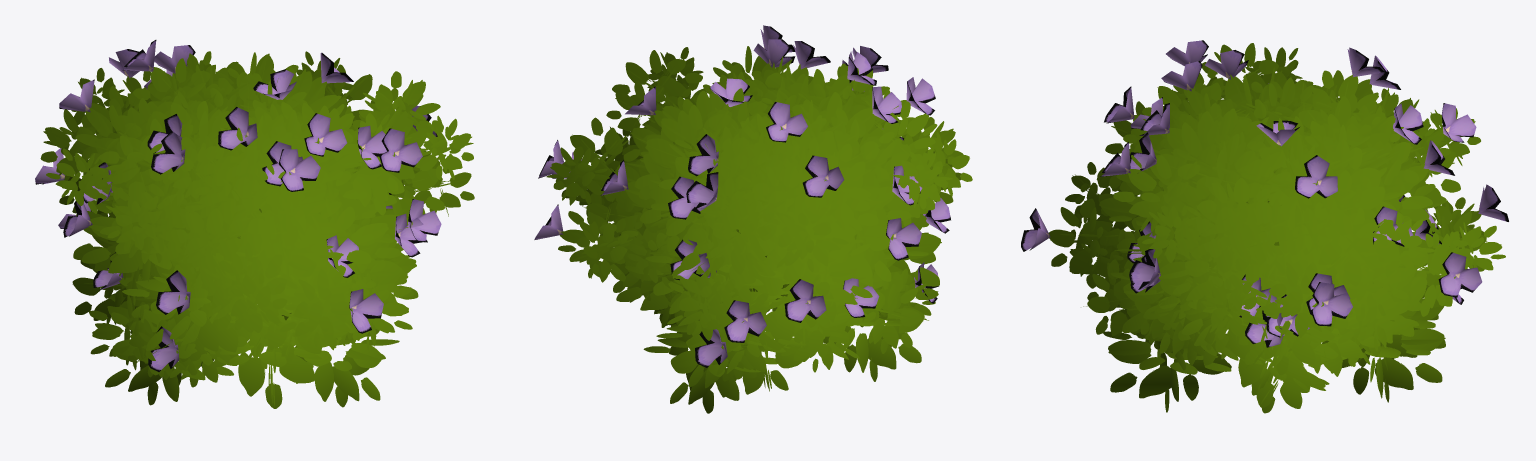
Rendered from bush_common_flowers.gltf.
3 views of the same model, side by side, from view 1: azimuth 30°, elevation 25°; view 2: azimuth 150°, elevation 25°; view 3: azimuth 270°, elevation 25° (orthographic). The views are drawn at different scales.
Parts seen in each view (by area): view 1: Bush_Common_Flowers; view 2: Bush_Common_Flowers; view 3: Bush_Common_Flowers.
Part boxes in pixels (x1,y1,x2,y2): Bush_Common_Flowers: (35, 40, 474, 408); Bush_Common_Flowers: (534, 25, 972, 413); Bush_Common_Flowers: (1021, 40, 1508, 413).
Bounding box in the file's own units: 1.91 × 1.58 × 1.97.
2 materials, 2 textured.
